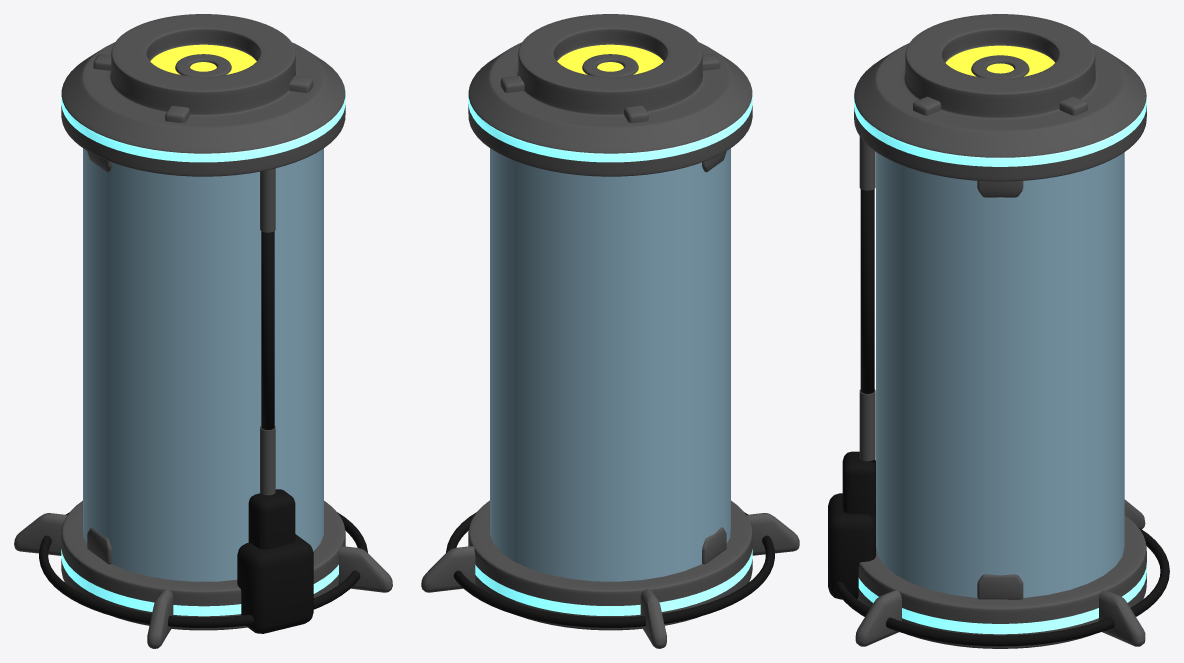
Rendered from Robot Egg 2x2 v2.fbx.
The picture shows the model from 3 angles, left to right: view 1: azimuth 30°, elevation 25°; view 2: azimuth 150°, elevation 25°; view 3: azimuth 270°, elevation 25°; orthographic projection. The views are drawn at different scales.
Parts seen in each view (by area): view 1: Tube.002, Top.002, Base.004, Back Device.002, Supports.004, Circle.002, Cylinder.015, Back Device_top, Cylinder.016, top_supports.002, Cylinder.017, Cube.045; view 2: Tube.002, Top.002, Base.004, Supports.004, Circle.002, top_supports.002, Cube.045; view 3: Tube.002, Top.002, Base.004, Circle.002, Supports.004, Back Device.002, Cylinder.015, Back Device_top, Cylinder.016, Cube.045, top_supports.002, Cylinder.017 (+1 smaller).
Part boxes in pixels (x1,y1,x2,y2): Tube.002: (83,148,323,581); Top.002: (61,14,345,176); Base.004: (61,500,345,630); Back Device.002: (237,534,313,633); Supports.004: (14,513,392,648); Circle.002: (39,512,367,627); Cylinder.015: (261,231,274,429); Back Device_top: (248,489,295,549); Cylinder.016: (260,426,275,495); top_supports.002: (93,54,313,123); Cylinder.017: (260,168,275,232); Cube.045: (87,527,111,564); Tube.002: (490,148,730,581); Top.002: (468,14,752,176); Base.004: (468,500,752,630); Supports.004: (421,513,799,648); Circle.002: (446,512,774,627); top_supports.002: (500,54,720,122); Cube.045: (702,527,726,564); Tube.002: (876,152,1124,597); Top.002: (854,14,1146,181); Base.004: (857,515,1146,648); Circle.002: (834,527,1169,646); Supports.004: (855,499,1145,646); Back Device.002: (828,493,875,599); Cylinder.015: (860,189,874,461); Back Device_top: (842,451,875,516); Cylinder.016: (859,389,875,461); Cube.045: (977,574,1023,599); top_supports.002: (913,96,1087,115); Cylinder.017: (859,136,875,190).
Bounding box in the file's own units: 184 × 320 × 185.
